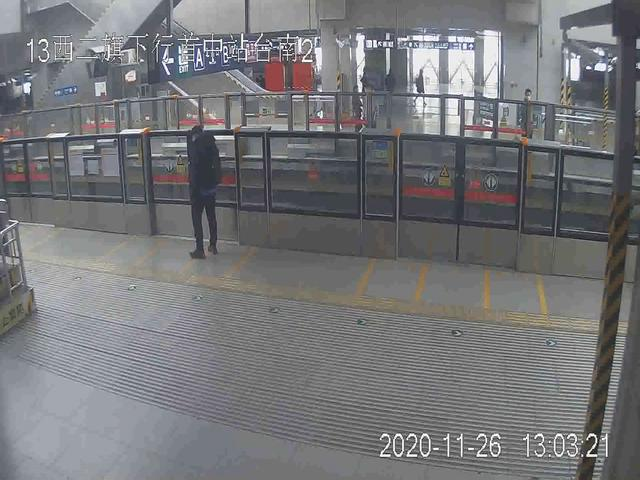person: (181, 124, 224, 272)
